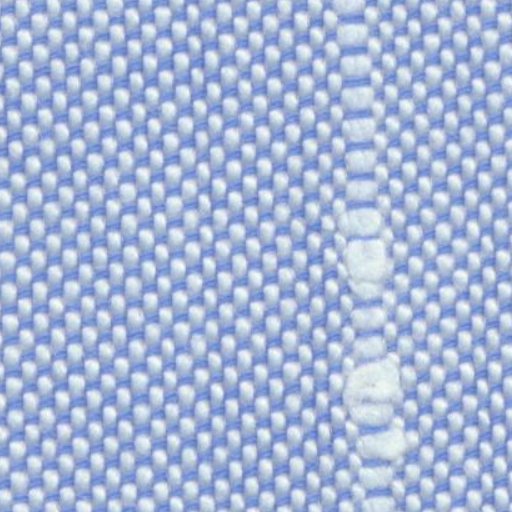MianQiu: (337, 346, 417, 454), (334, 216, 392, 294)
